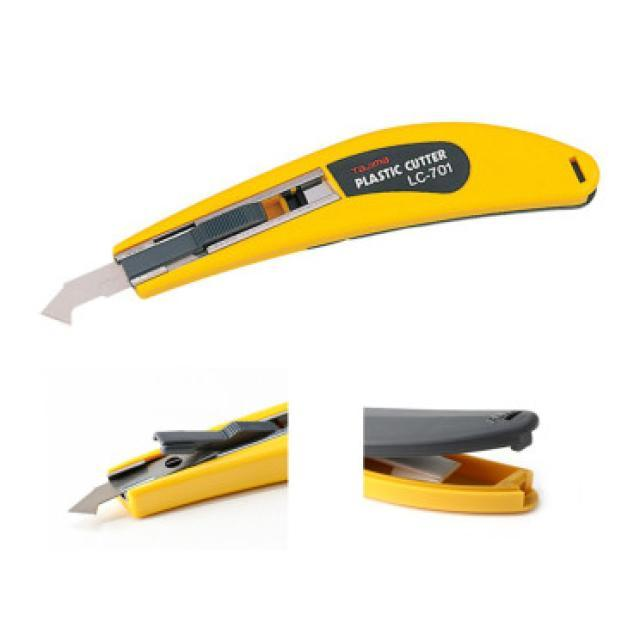cutter: (29, 110, 610, 355), (60, 396, 288, 538)
